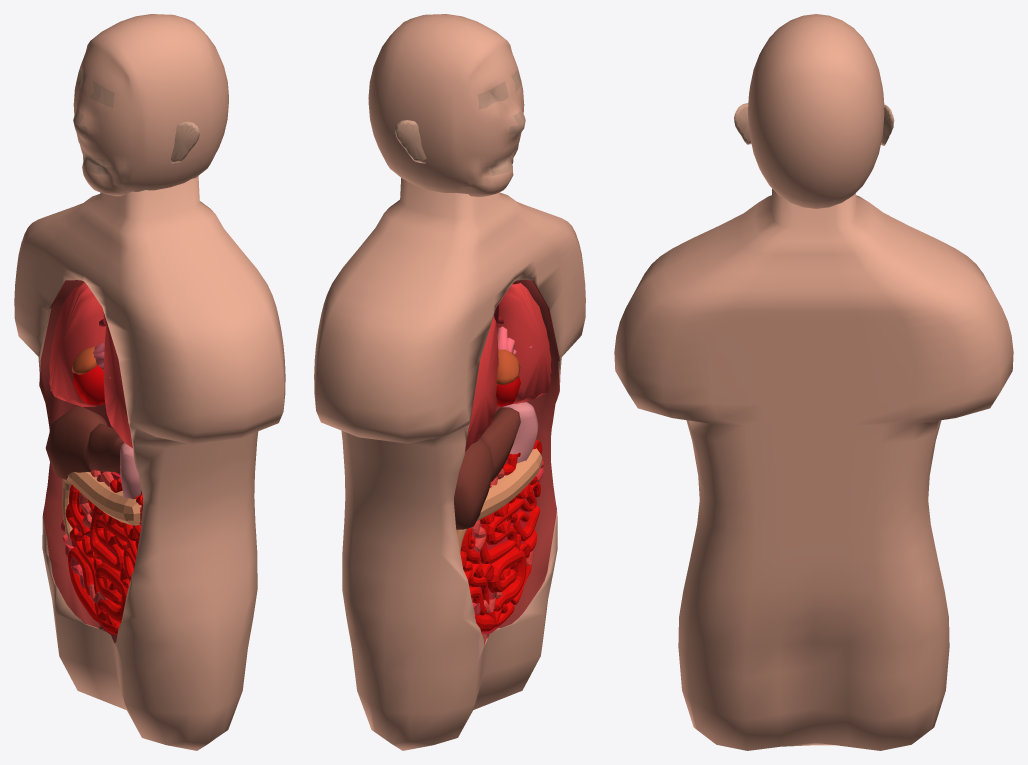
File: anatomia.fbx
3 views of the same model, side by side, from view 1: azimuth 30°, elevation 25°; view 2: azimuth 150°, elevation 25°; view 3: azimuth 270°, elevation 25° (orthographic). The views are drawn at different scales.
Parts seen in each view (by area): view 1: corpo, Cabeca, Cube.004, Cylinder, Cube, Coracao, Cube.001; view 2: corpo, Cabeca, Cube.004, Cylinder, Cube, Coracao, Cube.001; view 3: corpo, Cabeca.
Boxes of the visible parts, x1=… form: corpo: x1=14, y1=176, x2=285, y2=750; Cabeca: x1=73, y1=14, x2=228, y2=196; Cube.004: x1=61, y1=470, x2=143, y2=635; Cylinder: x1=49, y1=282, x2=151, y2=457; Cube: x1=45, y1=406, x2=123, y2=479; Coracao: x1=72, y1=342, x2=110, y2=405; Cube.001: x1=120, y1=443, x2=141, y2=499; corpo: x1=314, y1=178, x2=585, y2=750; Cabeca: x1=368, y1=14, x2=525, y2=196; Cube.004: x1=456, y1=439, x2=544, y2=633; Cylinder: x1=465, y1=283, x2=551, y2=451; Cube: x1=454, y1=407, x2=520, y2=529; Coracao: x1=496, y1=326, x2=531, y2=406; Cube.001: x1=501, y1=402, x2=538, y2=463; corpo: x1=614, y1=188, x2=1013, y2=750; Cabeca: x1=734, y1=14, x2=894, y2=208.
Size of the model in its own units: 97.14 by 442 by 222.
